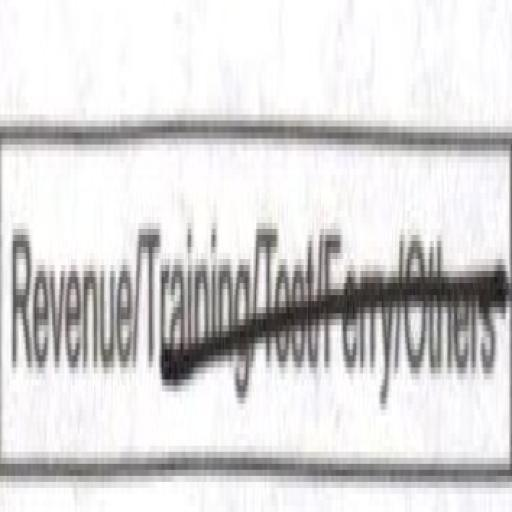check: (7, 119, 134, 455)
